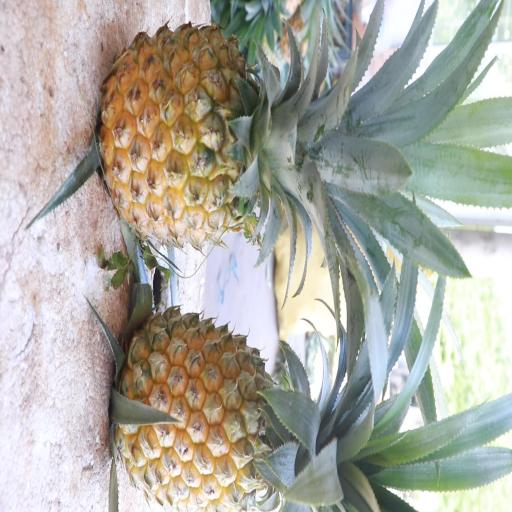Pineapple - v8 v1: (97, 18, 334, 255), (114, 304, 353, 510)
